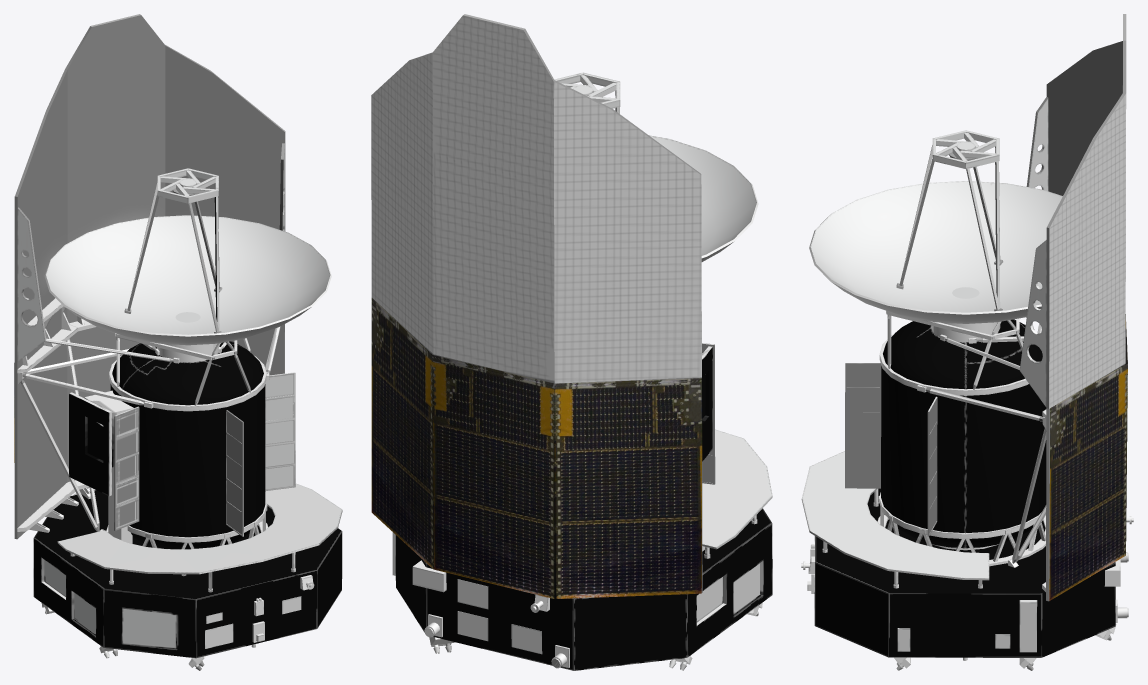
File: herschel.glb
The picture shows the model from 3 angles, left to right: view 1: azimuth 30°, elevation 25°; view 2: azimuth 150°, elevation 25°; view 3: azimuth 270°, elevation 25°; orthographic projection. The views are drawn at different scales.
Visible parts, largest first — view 1: Atlas presentation transform; view 2: Atlas presentation transform; view 3: Atlas presentation transform.
Boxes of the visible parts, x1=… form: Atlas presentation transform: x1=14, y1=14, x2=342, y2=670; Atlas presentation transform: x1=371, y1=14, x2=772, y2=670; Atlas presentation transform: x1=801, y1=14, x2=1133, y2=670.
Size of the model in its own units: 52.94 by 100 by 51.53.
Materials: 2 (2 with a texture image).
